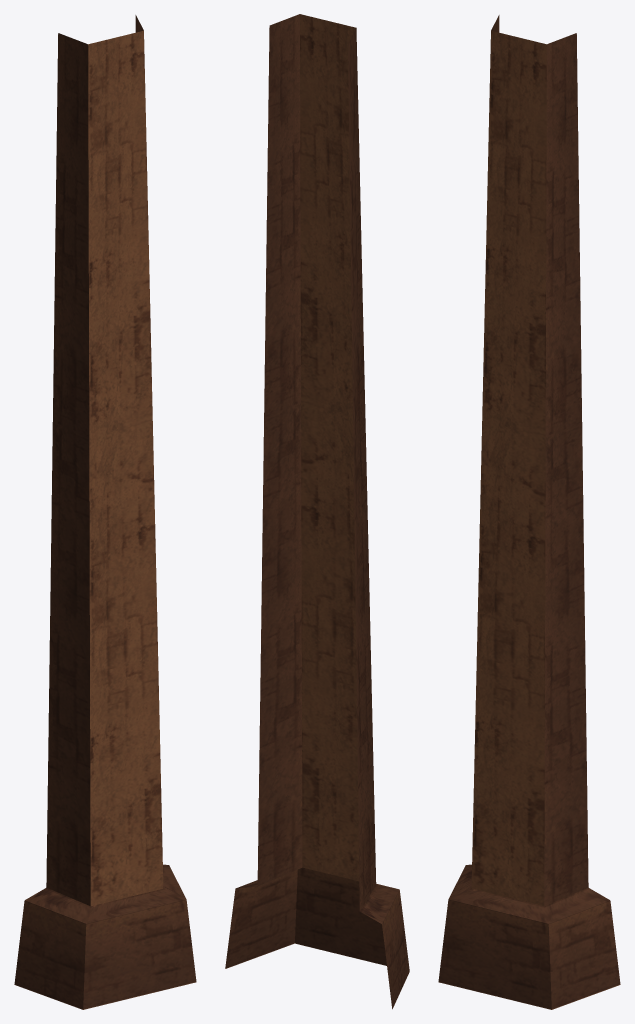
File: Pillar_Wall_High.fbx
3 views of the same model, side by side, from view 1: azimuth 30°, elevation 25°; view 2: azimuth 150°, elevation 25°; view 3: azimuth 330°, elevation 25° (orthographic).
Visible parts, largest first — view 1: Pillar_Wall_High; view 2: Pillar_Wall_High; view 3: Pillar_Wall_High.
Part boxes in pixels (bbox=[...]): Pillar_Wall_High: bbox=[14, 15, 196, 1009]; Pillar_Wall_High: bbox=[225, 14, 409, 1009]; Pillar_Wall_High: bbox=[438, 15, 620, 1009].
Bounding box in the file's own units: 38.55 × 210 × 17.43.
